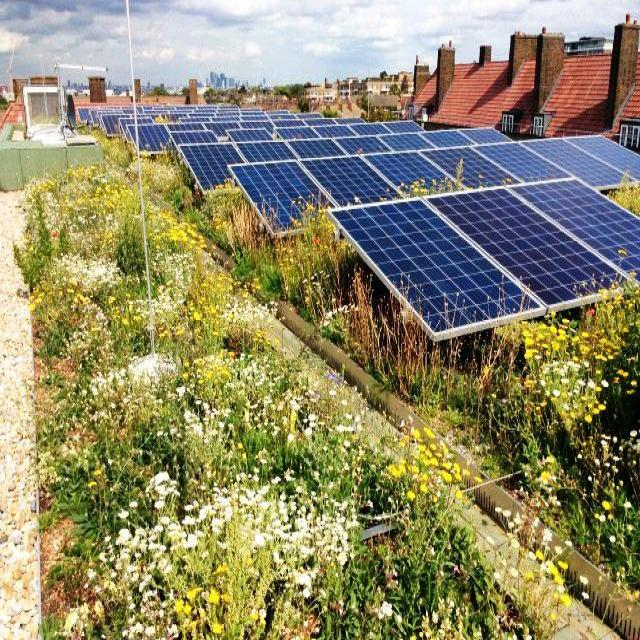no faulty: (329, 200, 544, 344), (430, 194, 636, 313), (228, 161, 334, 235), (486, 142, 598, 194), (296, 154, 403, 206), (376, 147, 464, 197), (432, 140, 527, 183)
